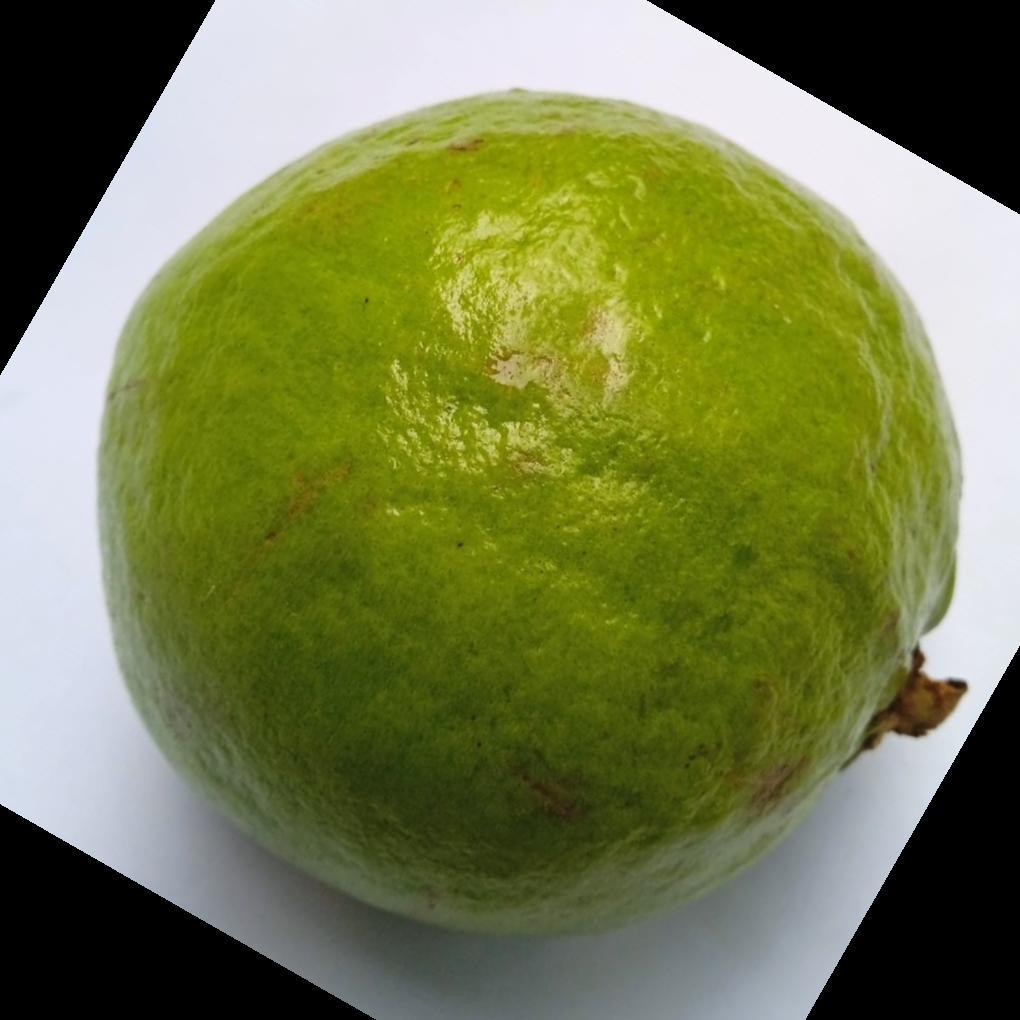FreshGuava: (94, 89, 965, 944)
